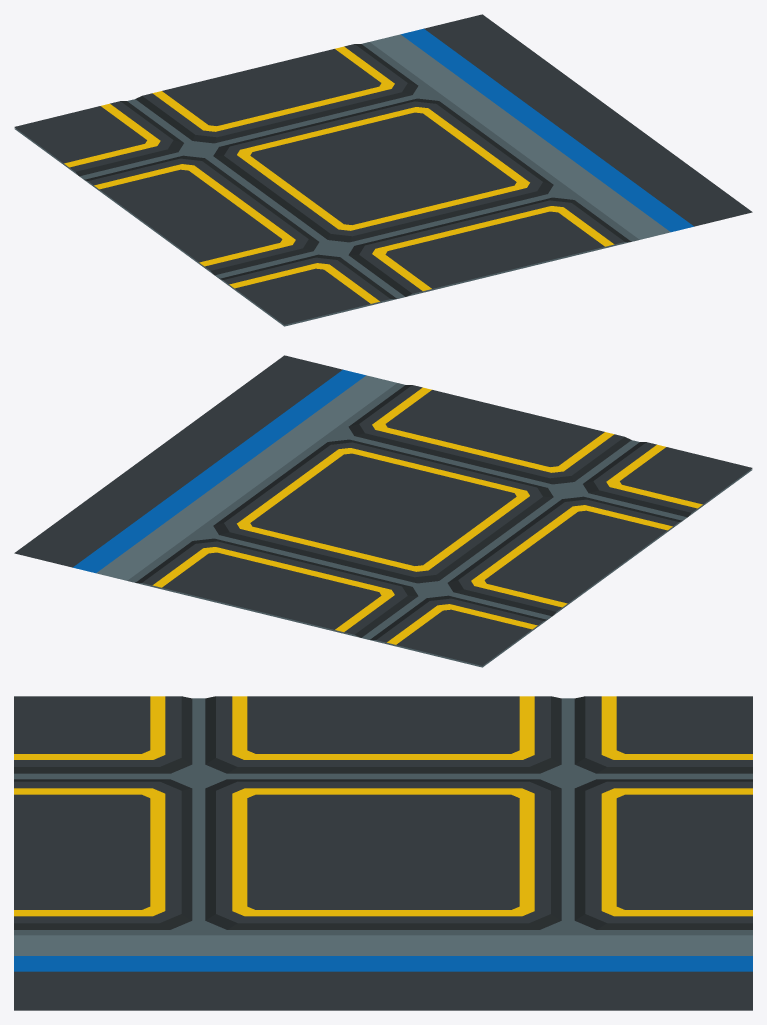
File: Floor_type_C_032.fbx
3 renders of one model, top to bottom at view 1: azimuth 30°, elevation 25°; view 2: azimuth 150°, elevation 25°; view 3: azimuth 270°, elevation 25°, orthographic. The views are drawn at different scales.
Parts seen in each view (by area): view 1: Floor_type_C_032; view 2: Floor_type_C_032; view 3: Floor_type_C_032.
Boxes of the visible parts, box(x1,y1,x2,y2) form: Floor_type_C_032: box(14, 14, 752, 326); Floor_type_C_032: box(14, 355, 752, 667); Floor_type_C_032: box(14, 696, 752, 1010).
Bounding box in the file's own units: 400 × 400 × 1.34.
